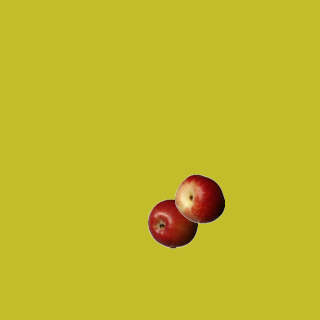Apple Braeburn: (147, 198, 197, 248)
Nectarine: (174, 173, 224, 223)
